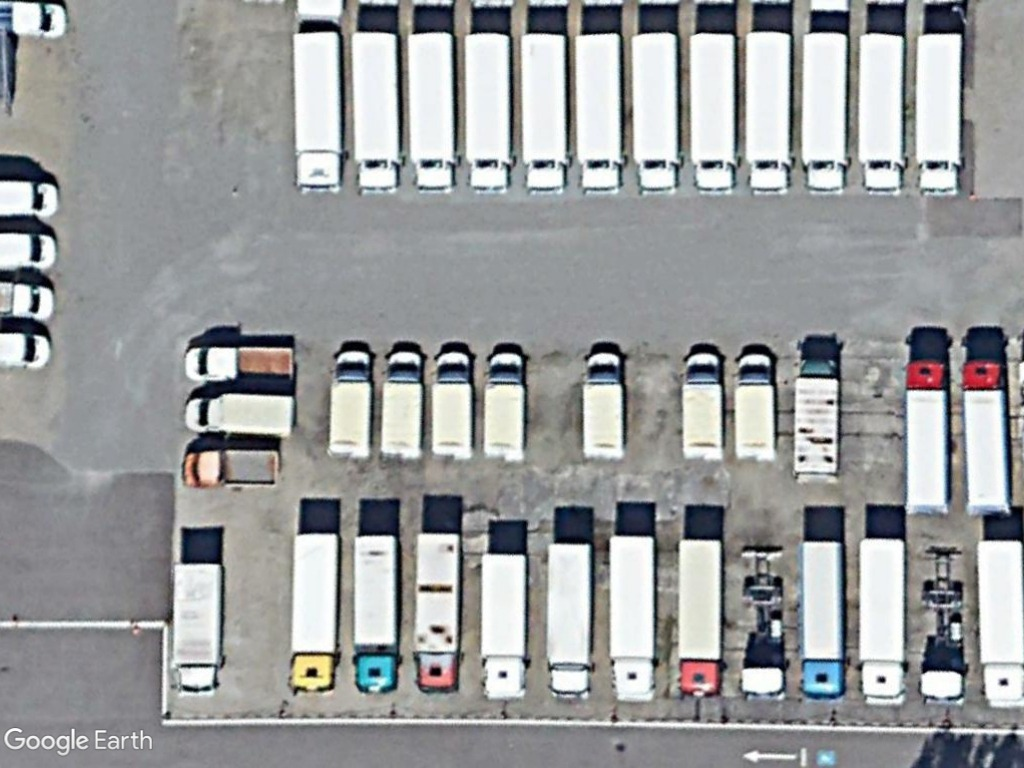others: (183, 344, 297, 386), (182, 448, 283, 490)
truck: (289, 28, 346, 194), (910, 28, 965, 197), (284, 529, 340, 694), (409, 529, 464, 696), (459, 28, 515, 192), (347, 29, 402, 195), (626, 28, 680, 196), (605, 529, 656, 705), (740, 26, 792, 198), (856, 536, 908, 708), (797, 28, 850, 196), (517, 27, 569, 197), (672, 535, 725, 701), (898, 358, 953, 517), (686, 28, 738, 196), (404, 27, 456, 195), (959, 355, 1013, 516), (543, 536, 595, 700), (351, 529, 401, 696), (976, 537, 1024, 710), (855, 30, 905, 196), (573, 28, 622, 196), (796, 536, 844, 704), (478, 548, 530, 703), (173, 558, 224, 700), (790, 356, 842, 479), (376, 346, 424, 461), (184, 390, 296, 438), (326, 347, 372, 463), (428, 348, 473, 462), (578, 350, 624, 461), (480, 349, 524, 463), (680, 350, 721, 463), (732, 352, 773, 462)
